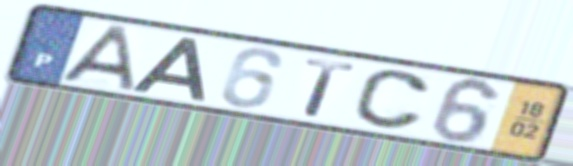6: (428, 76, 502, 145), (217, 47, 283, 110)
A: (57, 23, 137, 93), (128, 35, 208, 104)
C: (349, 68, 434, 133)
T: (300, 55, 360, 120)
